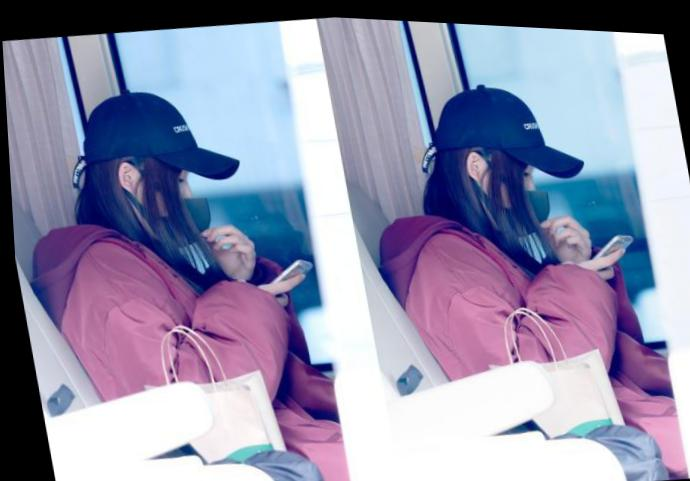WRONG: (491, 135, 554, 234), (146, 151, 207, 251)
